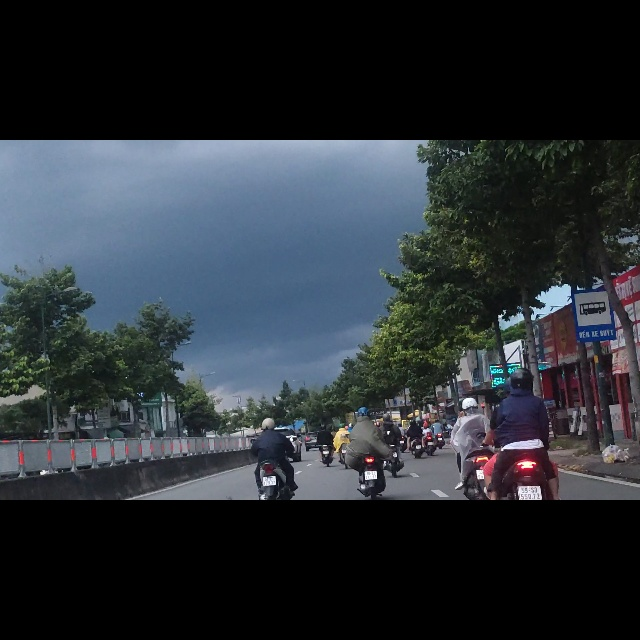bien_nguy_hiem: (571, 260, 618, 359)
